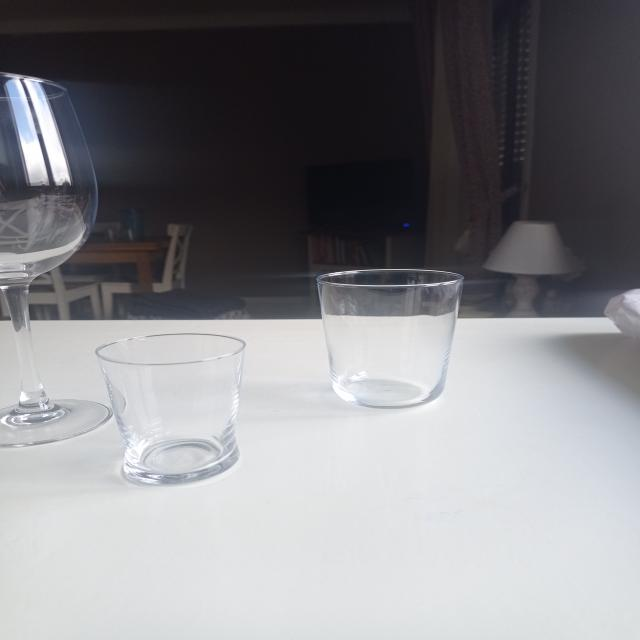Dry Waste: (0, 64, 119, 456), (94, 330, 255, 485), (318, 268, 465, 416)
